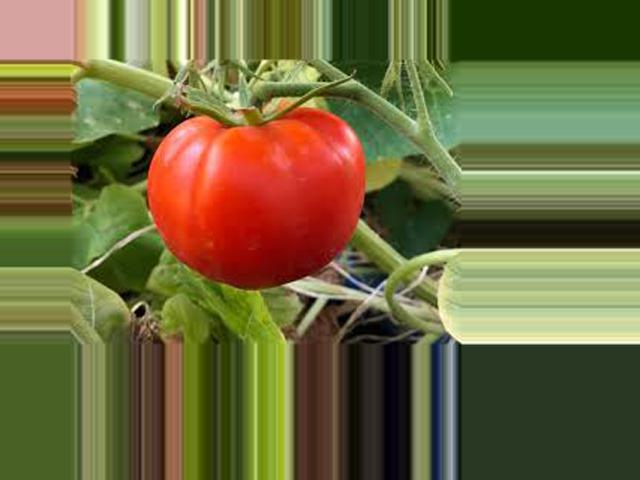tomato: (147, 108, 367, 288)
